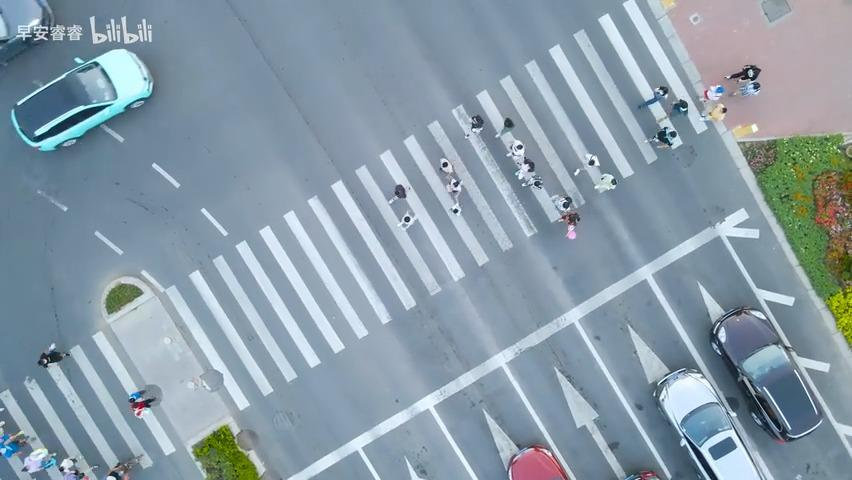Civilian: (387, 184, 416, 229), (22, 448, 57, 479), (37, 342, 70, 367), (699, 84, 724, 117), (128, 389, 156, 418), (656, 98, 688, 123), (0, 429, 27, 458), (637, 85, 668, 109), (438, 157, 461, 188), (445, 177, 463, 215), (644, 126, 676, 147), (724, 64, 761, 81), (573, 153, 600, 176), (558, 211, 580, 239), (550, 194, 572, 222), (505, 139, 525, 168), (699, 102, 727, 122), (58, 456, 81, 479), (463, 114, 484, 139), (730, 80, 760, 97), (396, 209, 417, 231), (514, 157, 534, 180), (593, 173, 617, 192), (105, 461, 130, 479), (387, 184, 407, 205), (494, 117, 513, 138), (701, 84, 724, 101), (520, 174, 543, 189), (670, 98, 688, 115), (438, 157, 454, 174), (470, 114, 484, 132), (584, 153, 600, 167)
